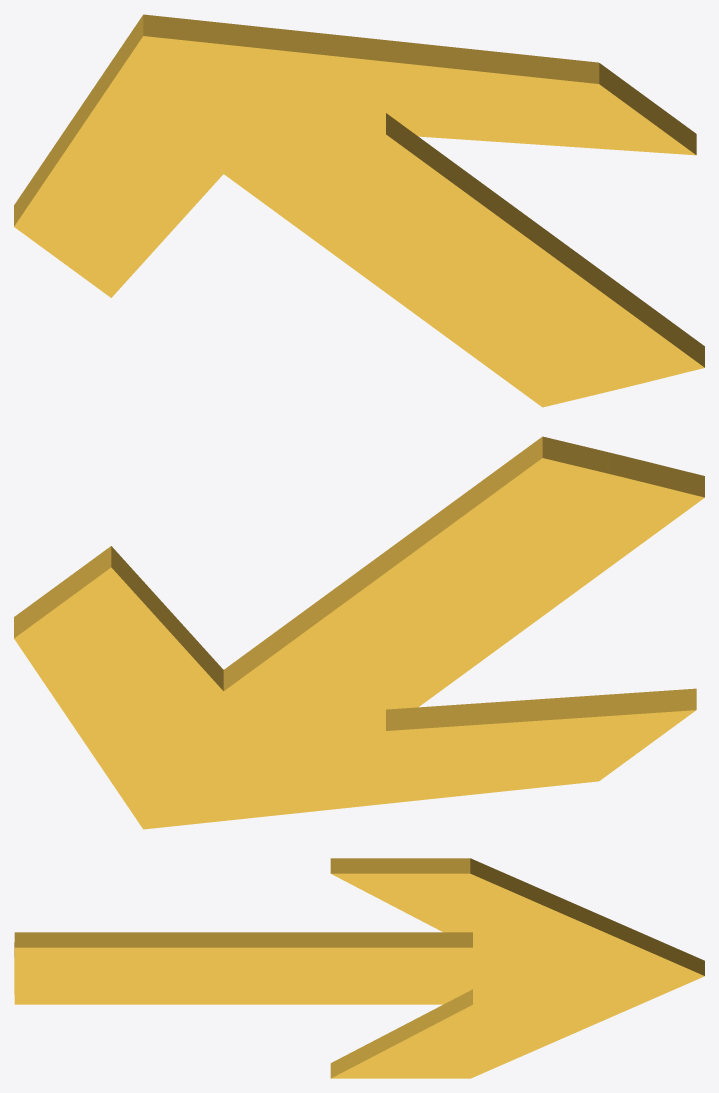
Rendered from yellowarrow.glb.
3 renders of one model, top to bottom at view 1: azimuth 30°, elevation 25°; view 2: azimuth 150°, elevation 25°; view 3: azimuth 270°, elevation 25°, orthographic. The views are drawn at different scales.
Visible parts, largest first — view 1: Yellow_Arrow; view 2: Yellow_Arrow; view 3: Yellow_Arrow.
Part boxes in pixels (x1,y1,x2,y2): Yellow_Arrow: (14, 14, 704, 407); Yellow_Arrow: (14, 436, 704, 829); Yellow_Arrow: (14, 858, 704, 1078).
Bounding box in the file's own units: 25.23 × 0.8863 × 35.92.
